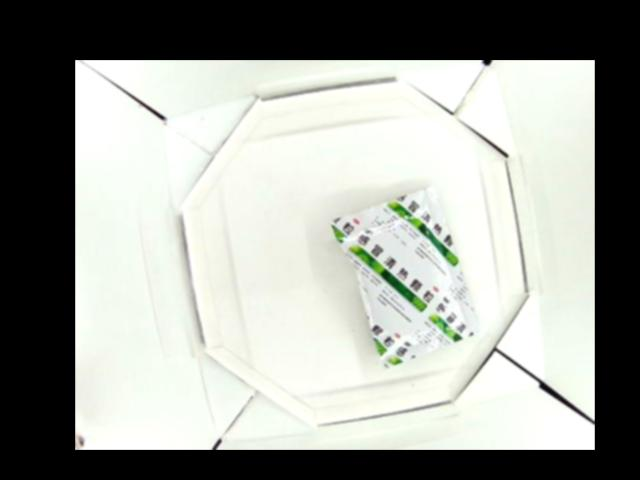Medicine: (327, 183, 481, 370)
